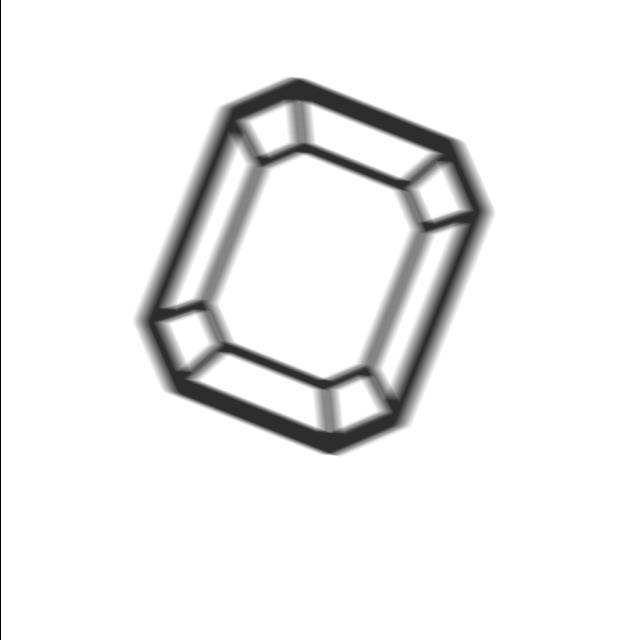emerald: (127, 71, 501, 463)
